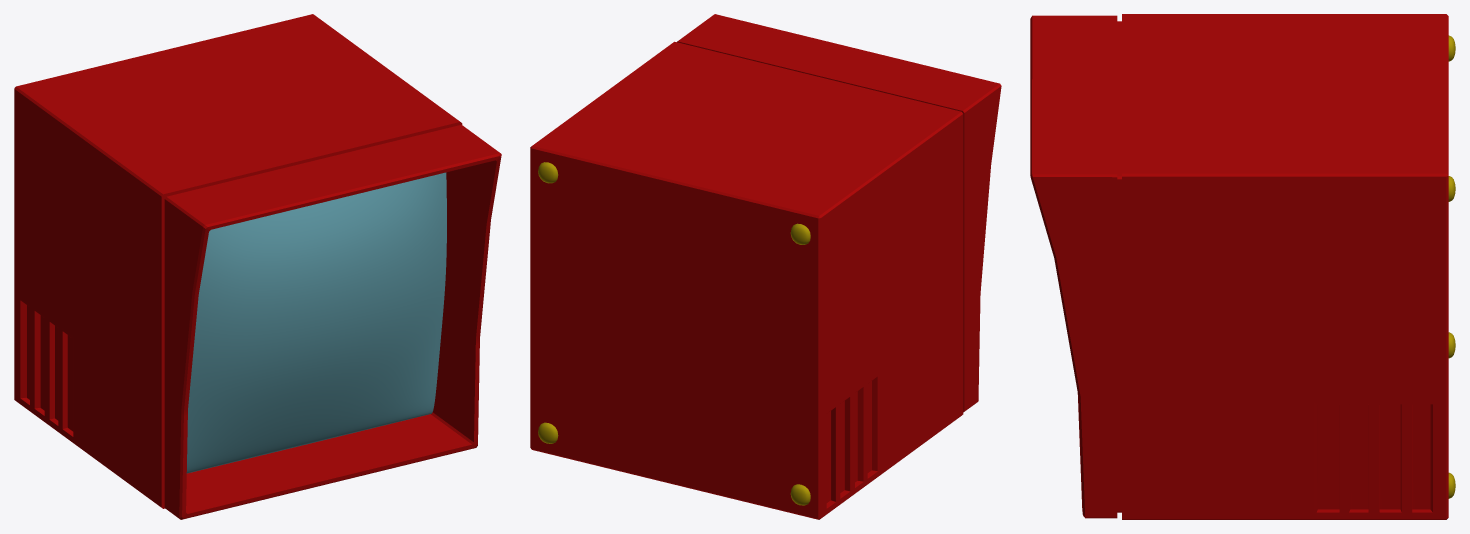
File: Monitor.fbx
3 views of the same model, side by side, from view 1: azimuth 30°, elevation 25°; view 2: azimuth 150°, elevation 25°; view 3: azimuth 270°, elevation 25° (orthographic). The views are drawn at different scales.
Visible parts, largest first — view 1: MonitorBase, Glass; view 2: MonitorBase, Screws; view 3: MonitorBase, Screws.
Boxes of the visible parts, x1=… form: MonitorBase: x1=14, y1=14, x2=501, y2=519; Glass: x1=186, y1=172, x2=446, y2=473; MonitorBase: x1=530, y1=14, x2=1001, y2=519; Screws: x1=538, y1=162, x2=810, y2=505; MonitorBase: x1=1030, y1=14, x2=1448, y2=519; Screws: x1=1448, y1=35, x2=1455, y2=498.
Size of the model in its own units: 30.38 by 30.38 by 33.82.
